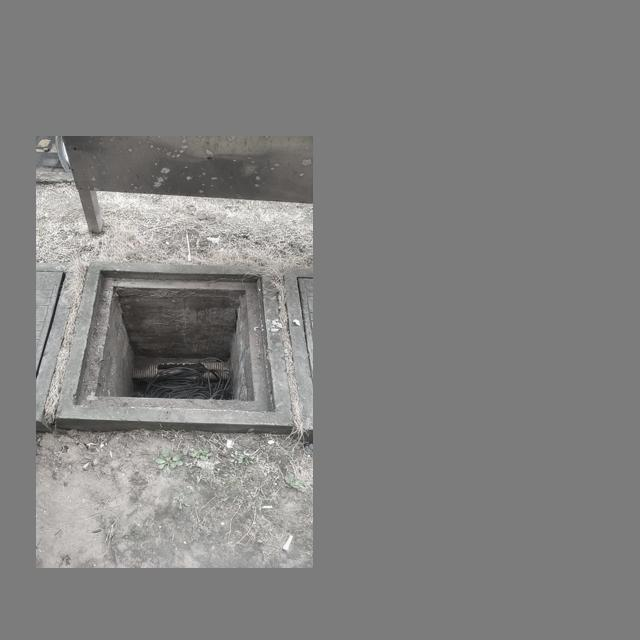lose: (55, 261, 293, 437)
